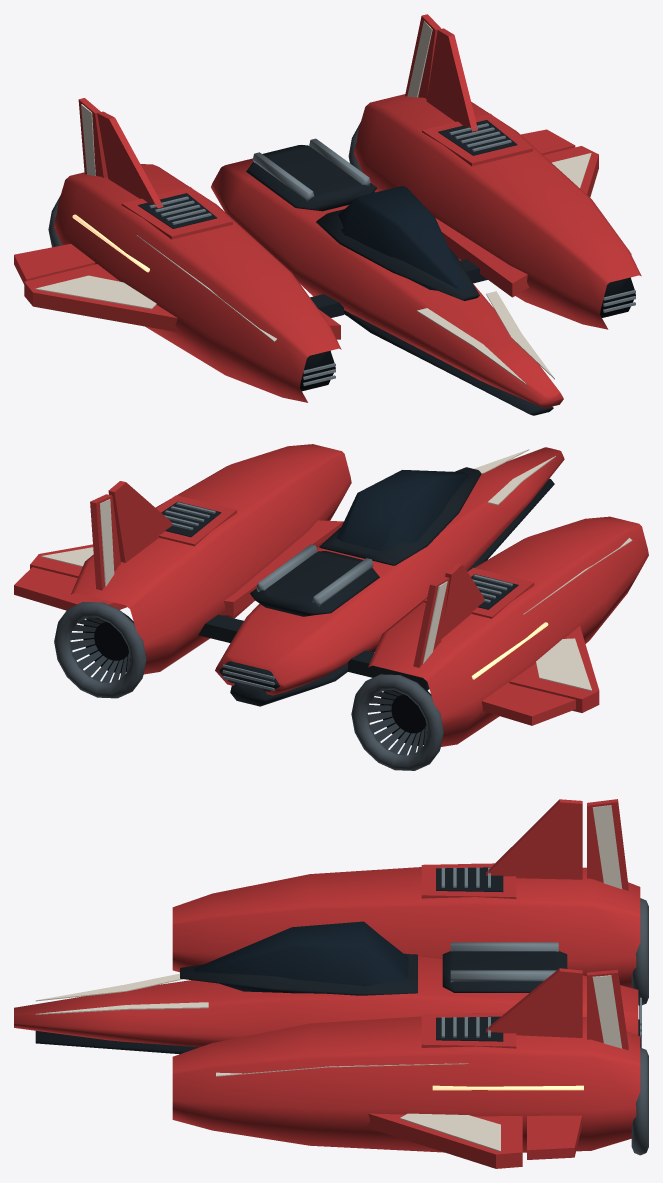
The model's file is red-racer-v1.glb.
3 renders of one model, top to bottom at view 1: azimuth 30°, elevation 25°; view 2: azimuth 150°, elevation 25°; view 3: azimuth 270°, elevation 25°, orthographic. The views are drawn at different scales.
Visible parts, largest first — view 1: Nacelle-1, Nacelle1, Body, Canopy, Keel, MountBase, Wing-1, Wing1, FixedFin1, FixedFin-1, WingAccent-1, Elevon-1 (+16 smaller); view 2: Nacelle1, Nacelle-1, Body, Canopy, Keel, MountBase, Nozzle-1, Nozzle1, FixedFin1, Wing1, Elevon-1, Elevon1 (+22 smaller); view 3: Nacelle1, Nacelle-1, Body, Canopy, FixedFin-1, Keel, FixedFin1, Wing1, MountBase, Elevon1, MountRail-1, WingAccent1 (+12 smaller).
Boxes of the visible parts, <box> form: Nacelle-1: <box>54,164,341,402</box>; Nacelle1: <box>354,94,641,329</box>; Body: <box>211,158,563,408</box>; Canopy: <box>338,186,466,290</box>; Keel: <box>316,209,553,415</box>; MountBase: <box>246,145,376,211</box>; Wing-1: <box>24,264,340,339</box>; Wing1: <box>435,146,598,297</box>; FixedFin1: <box>426,28,477,131</box>; FixedFin-1: <box>97,111,163,208</box>; WingAccent-1: <box>35,275,156,309</box>; Elevon-1: <box>14,244,95,284</box>; Nacelle1: <box>71,444,351,674</box>; Nacelle-1: <box>368,516,648,746</box>; Body: <box>215,447,564,695</box>; Canopy: <box>336,470,468,551</box>; Keel: <box>219,467,554,706</box>; MountBase: <box>250,551,379,616</box>; Nozzle-1: <box>351,674,443,770</box>; Nozzle1: <box>54,602,146,698</box>; FixedFin1: <box>108,481,172,562</box>; Wing1: <box>30,520,343,615</box>; Elevon-1: <box>481,683,575,725</box>; Elevon1: <box>14,567,126,610</box>; Nacelle1: <box>172,1013,640,1152</box>; Nacelle-1: <box>172,863,640,987</box>; Body: <box>14,955,638,1047</box>; Canopy: <box>194,921,408,993</box>; FixedFin-1: <box>486,799,582,879</box>; Keel: <box>35,953,641,1054</box>; FixedFin1: <box>486,968,582,1037</box>; Wing1: <box>365,1113,522,1168</box>; MountBase: <box>442,951,567,992</box>; Elevon1: <box>527,1115,582,1159</box>; MountRail-1: <box>450,942,558,982</box>; WingAccent1: <box>400,1113,500,1151</box>.
Size of the model in its own units: 9.24 by 2.89 by 8.8.
